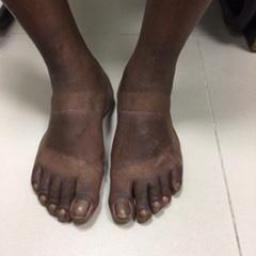Dorsal View -Both Feet-: (18, 42, 201, 230)
